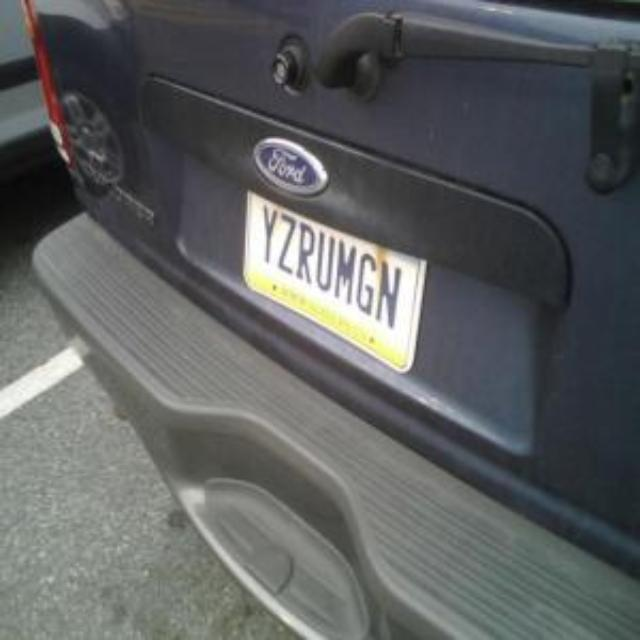License Plate: (245, 192, 427, 370)
